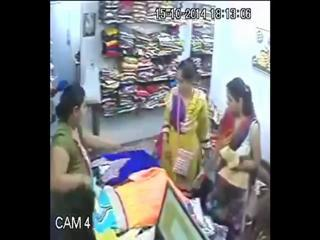Normal: (49, 84, 124, 240), (201, 78, 261, 236), (160, 58, 212, 199), (154, 184, 209, 240)
